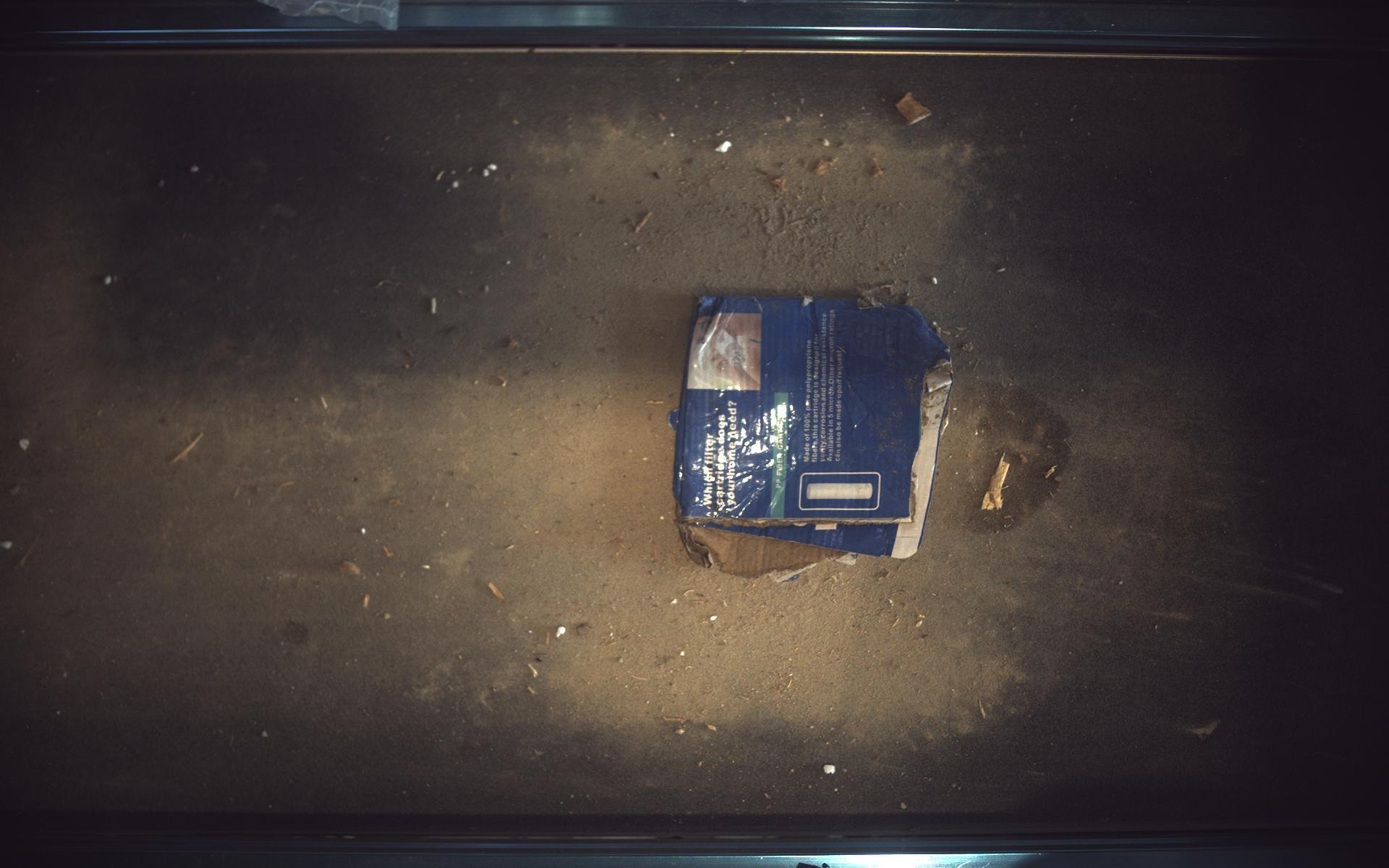general_w: (671, 297, 955, 579)
